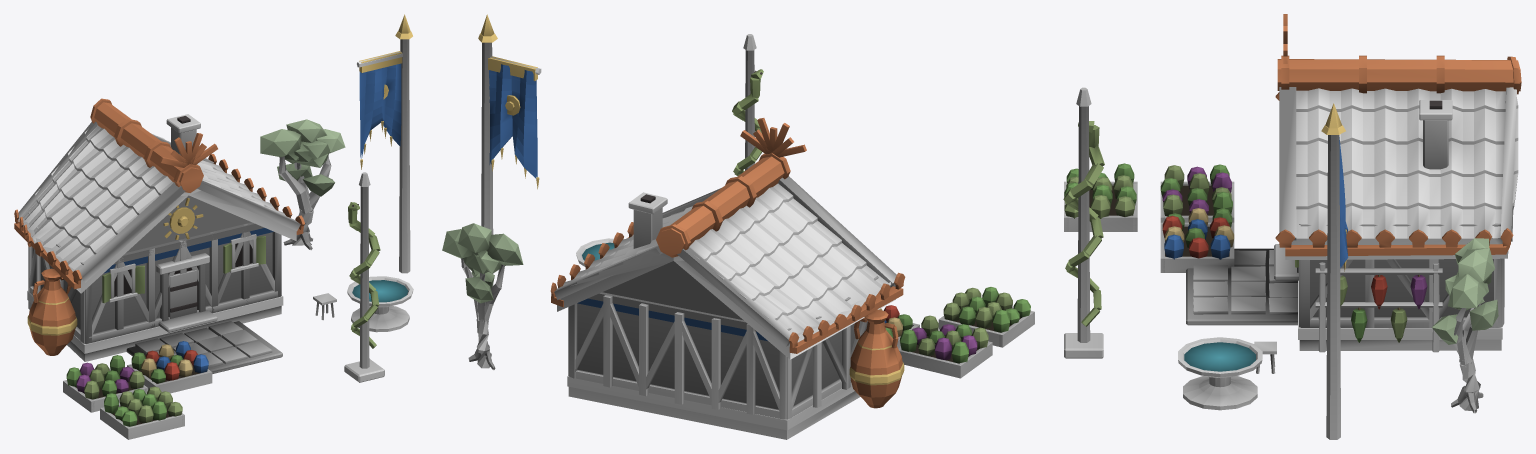
Rendered from healers-hut-l1.glb.
3 renders of one model, left to right at view 1: azimuth 30°, elevation 25°; view 2: azimuth 150°, elevation 25°; view 3: azimuth 270°, elevation 25°, orthographic. The views are drawn at different scales.
Visible parts, largest first — view 1: healers-hut-l1; view 2: healers-hut-l1; view 3: healers-hut-l1.
Boxes of the visible parts, left/top/right/bottom form: healers-hut-l1: left=14, top=14, right=413, bottom=439; healers-hut-l1: left=442, top=14, right=1034, bottom=439; healers-hut-l1: left=1063, top=14, right=1521, bottom=439.
Size of the model in its own units: 1.38 by 0.8859 by 1.09.
